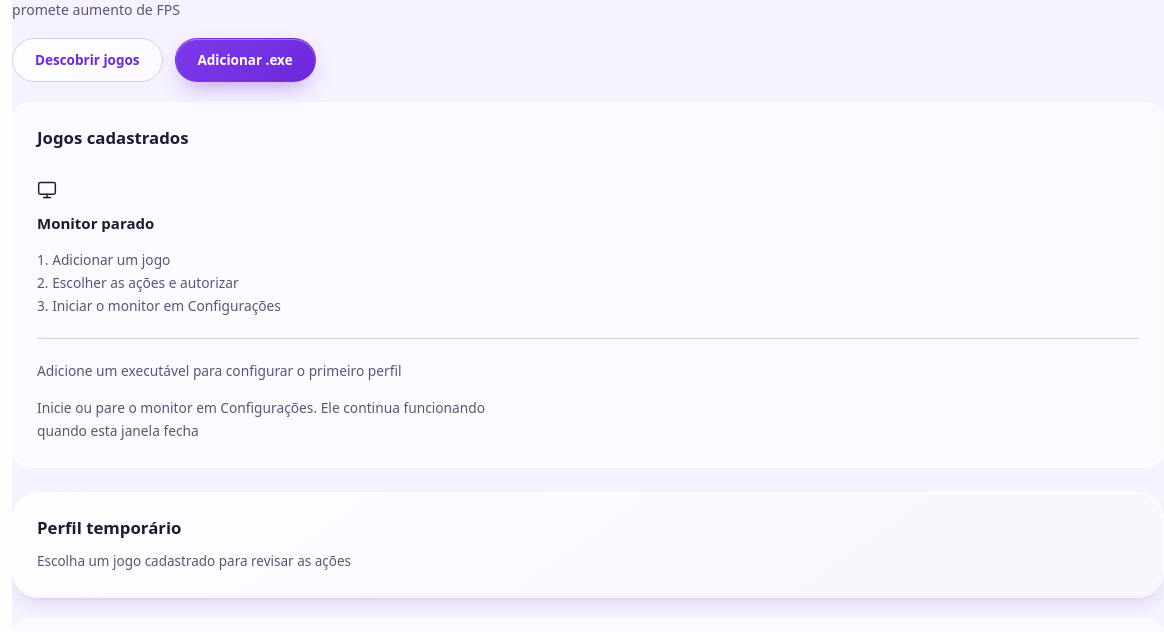
Test case: game registration starts disabled and needs profile consent
Click the button "Adicionar .exe": (245, 60) [174,38,316,82]
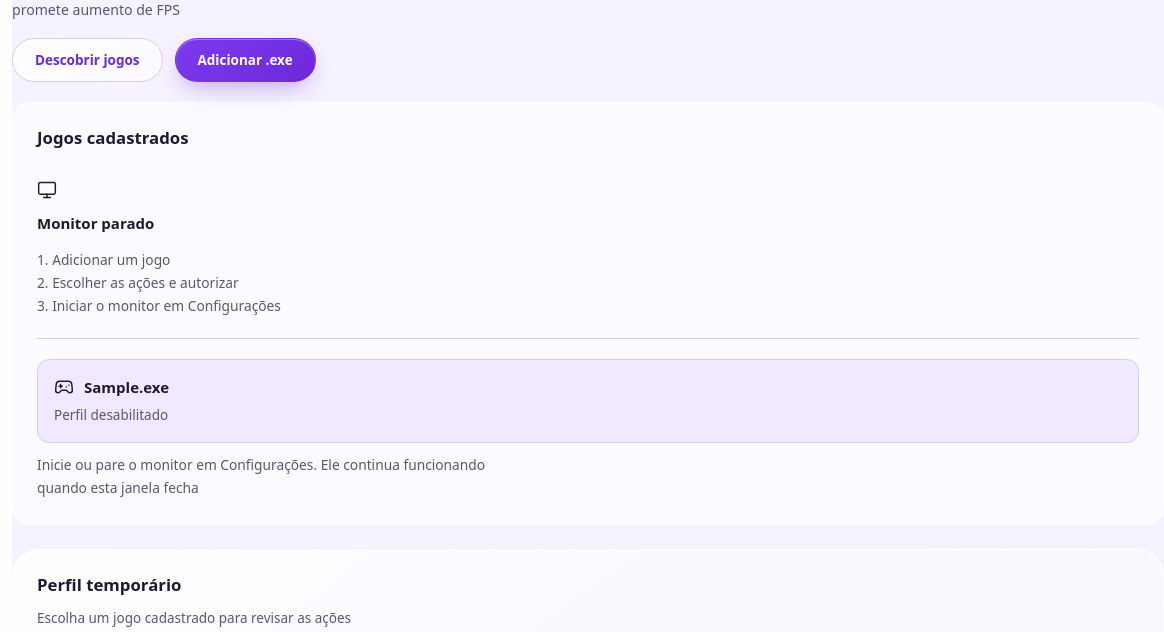
Click the button "Sample.exe Perfil desabilitado": (127, 387) [37,359,1139,443]
(page scrolled)
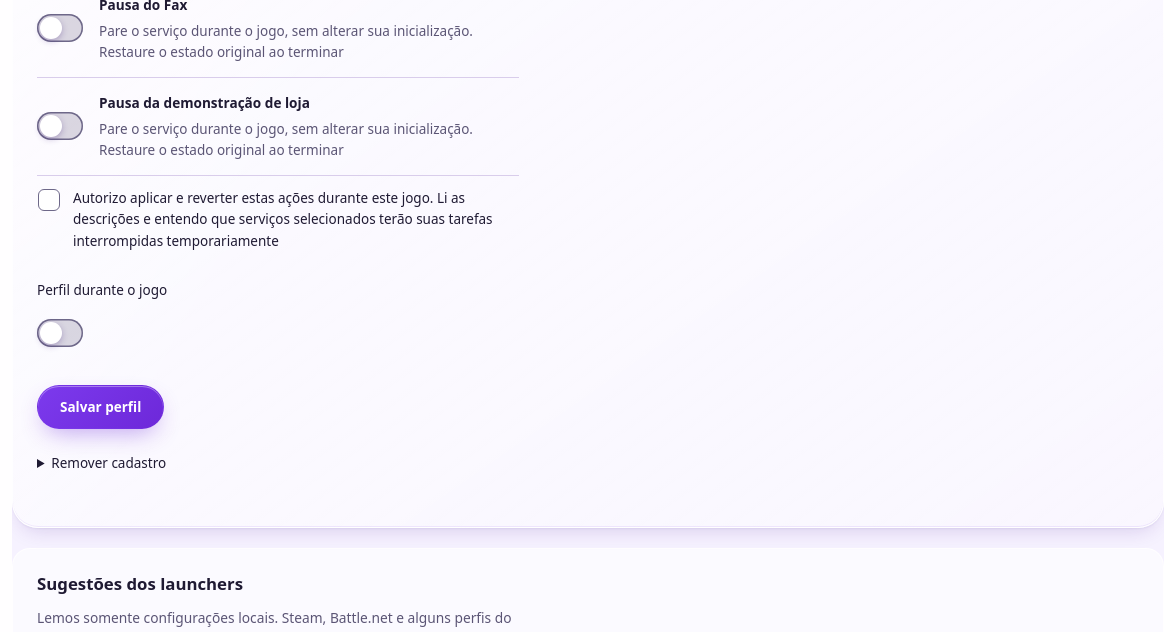
Click the switch named "Perfil durante o jogo": (60, 333) [37,313,83,353]
(page scrolled)
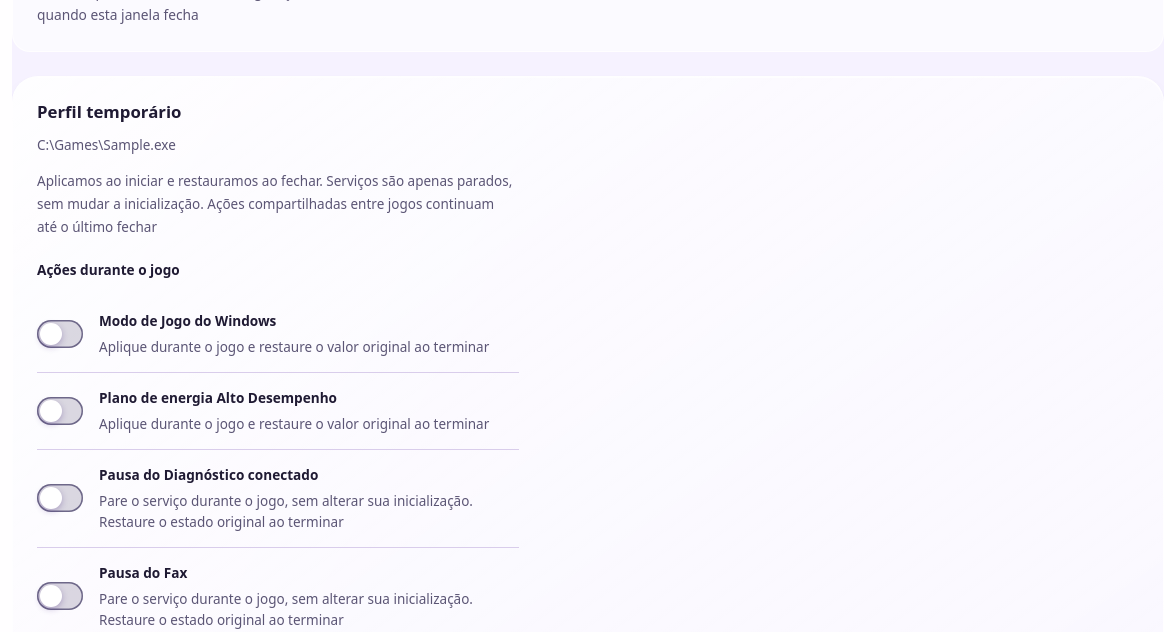
Click the switch named "Modo de Jogo do Windows": (60, 334) [37,314,83,354]
(page scrolled)
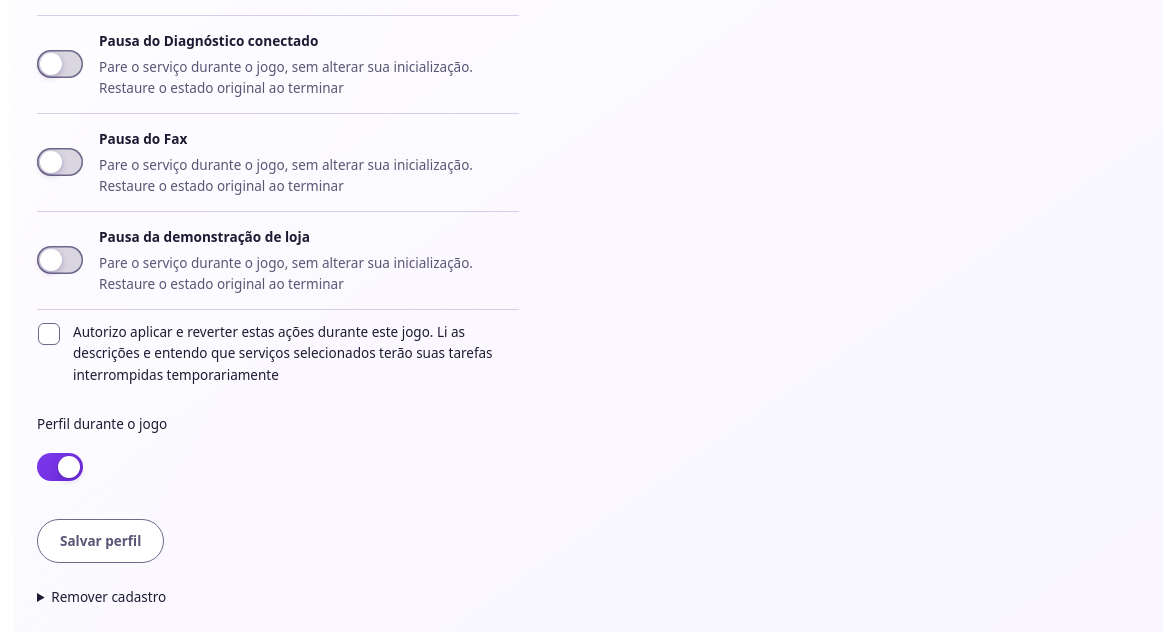
Click the checkbox named "Autorizo aplicar e reverter estas ações durante este jogo. Li as descrições e entendo que serviços selecionados terão su": (49, 334) [38,323,60,345]
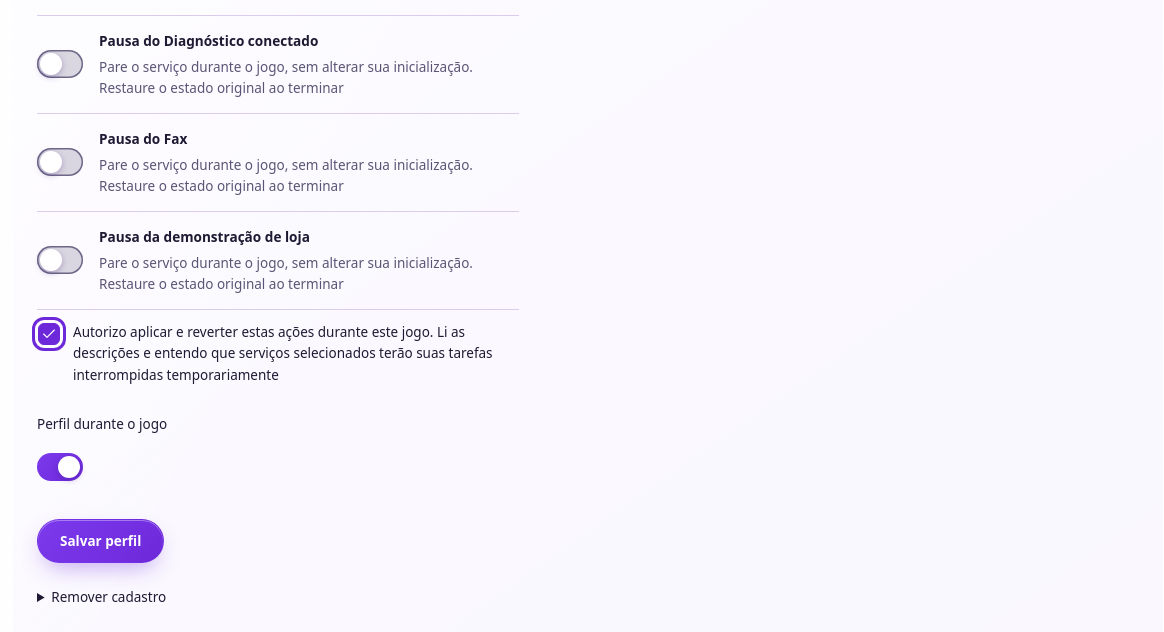
Click the button "Salvar perfil": (101, 541) [37,519,164,563]
(page scrolled)
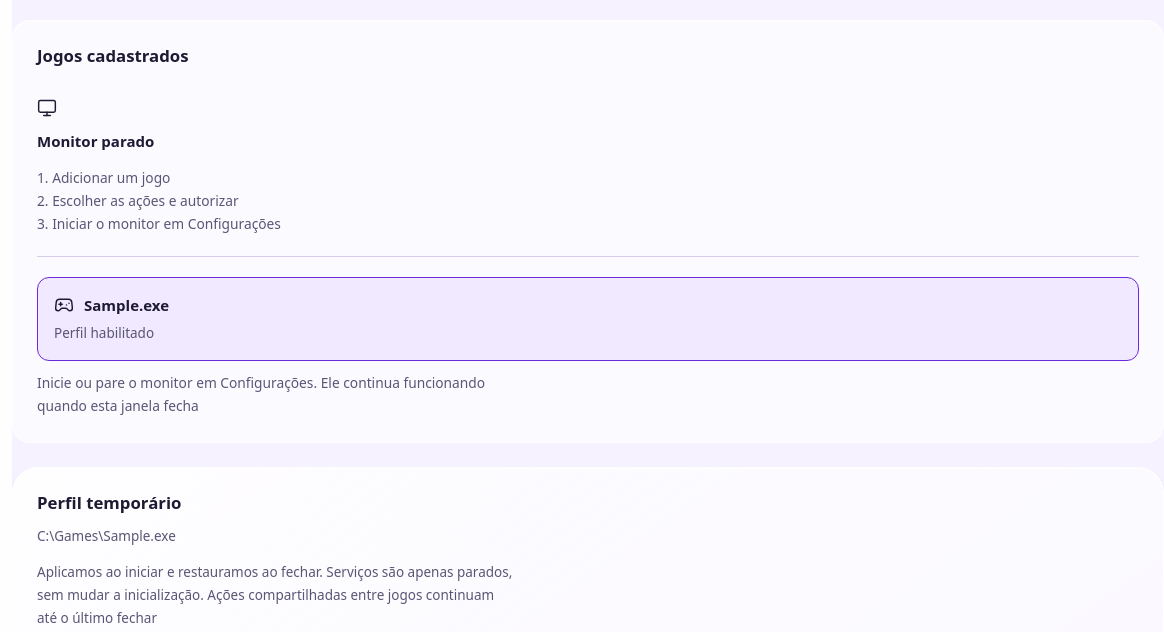
Result: the text "Perfil habilitado" is shown at [54,323,154,344]
